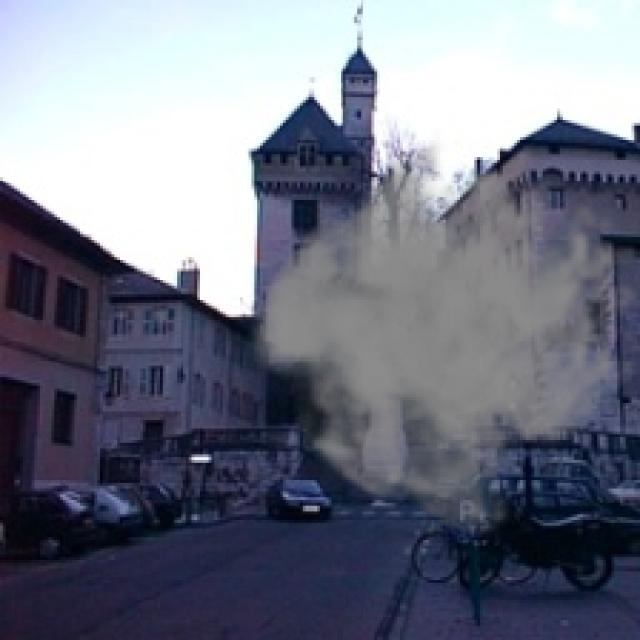smoke: (246, 128, 637, 543)
